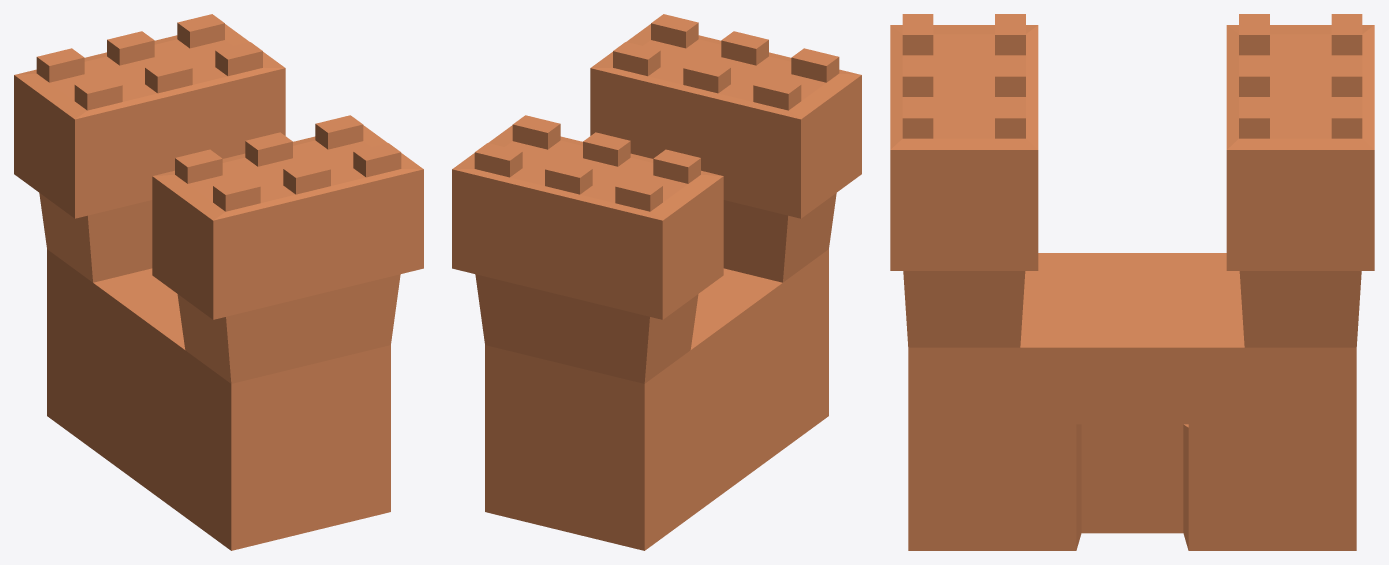
Rendered from sandcastle.fbx.
3 views of the same model, side by side, from view 1: azimuth 30°, elevation 25°; view 2: azimuth 150°, elevation 25°; view 3: azimuth 270°, elevation 25° (orthographic). The views are drawn at different scales.
Visible parts, largest first — view 1: sand castle.001; view 2: sand castle.001; view 3: sand castle.001.
Part boxes in pixels (box(x1,y1,x2,y2)): sand castle.001: box(14, 14, 423, 550); sand castle.001: box(452, 14, 861, 550); sand castle.001: box(890, 14, 1374, 550).
Bounding box in the file's own units: 95.54 × 156 × 156.
